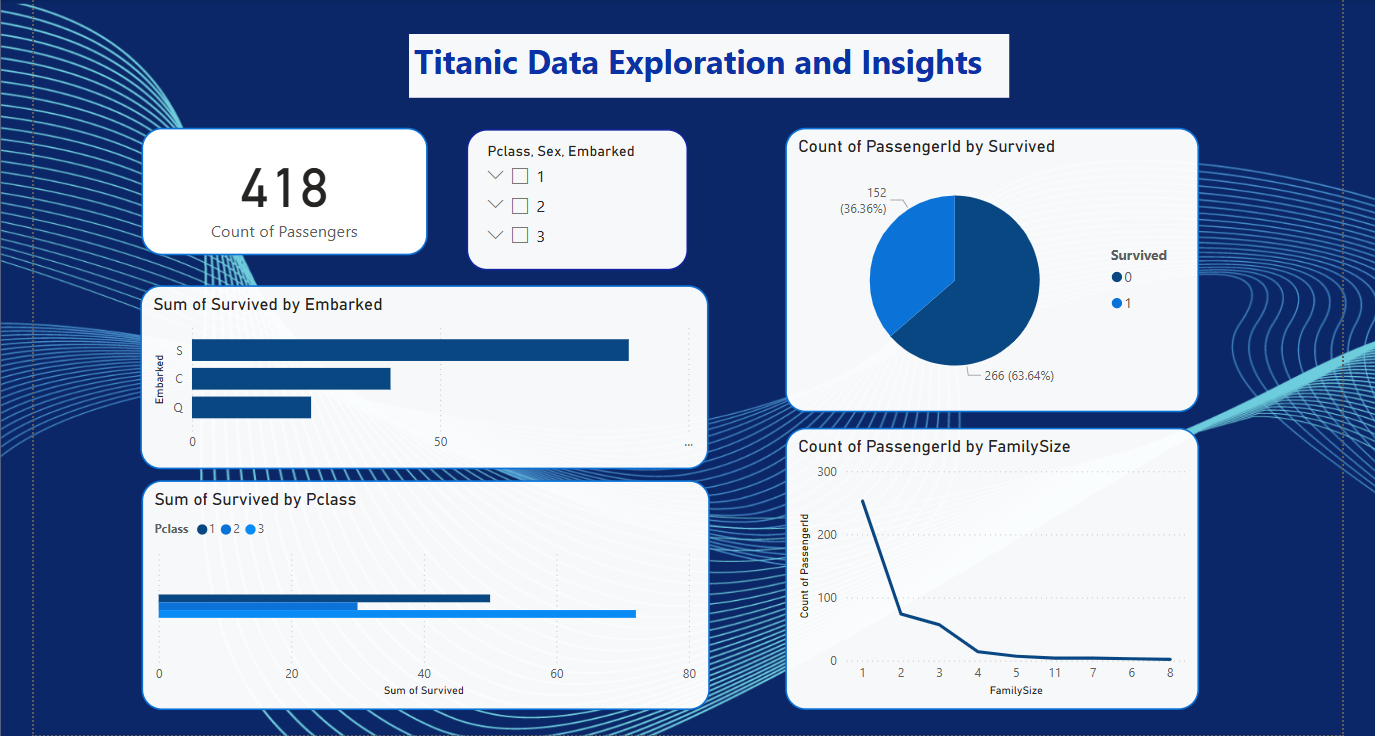

What the dashboard file says about the page in this screenshot:
{"tool":"powerbi","page":{"name":"Page 1","canvas":[1280,720],"ordinal":0},"visuals":[{"type":"card","fields":{"Values":["CountNonNull(test.PassengerId)"]},"box":[105.7,126.2,279.9,124.9],"z":0},{"type":"pieChart","fields":{"Category":["test.Survived"],"Y":["CountNonNull(test.PassengerId)"]},"box":[735.5,126.2,404.8,278.6],"z":1000},{"type":"clusteredBarChart","fields":{"Y":["Sum(test.Survived)"],"Series":["test.Pclass"]},"box":[105.7,470.7,555.7,225],"z":2000},{"type":"barChart","fields":{"Y":["Sum(test.Survived)"],"Category":["test.Embarked"]},"box":[103.9,280,556.4,179.8],"z":3000},{"type":"lineChart","fields":{"Category":["test.FamilySize"],"Y":["CountNonNull(test.PassengerId)"]},"box":[735.5,419.9,404.8,275.8],"z":4000},{"type":"slicer","fields":{"Values":["test.Pclass","test.Sex","test.Embarked"]},"box":[423.1,127.2,216.4,138.2],"z":5000},{"type":"textbox","box":[366.8,34.2,587,62.4],"z":6000}]}

Visuals, with their boxes in screenshot pixels (x1, y1, x2, y2):
card - CountNonNull(test.PassengerId): [x1=146, y1=128, x2=429, y2=254]
pieChart - test.Survived x CountNonNull(test.PassengerId): [x1=782, y1=128, x2=1191, y2=409]
clusteredBarChart - Sum(test.Survived) x test.Pclass: [x1=146, y1=476, x2=708, y2=703]
barChart - Sum(test.Survived) x test.Embarked: [x1=144, y1=283, x2=707, y2=465]
lineChart - test.FamilySize x CountNonNull(test.PassengerId): [x1=782, y1=424, x2=1191, y2=703]
slicer - test.Pclass x test.Sex: [x1=467, y1=129, x2=685, y2=268]
textbox: [x1=410, y1=35, x2=1003, y2=98]
